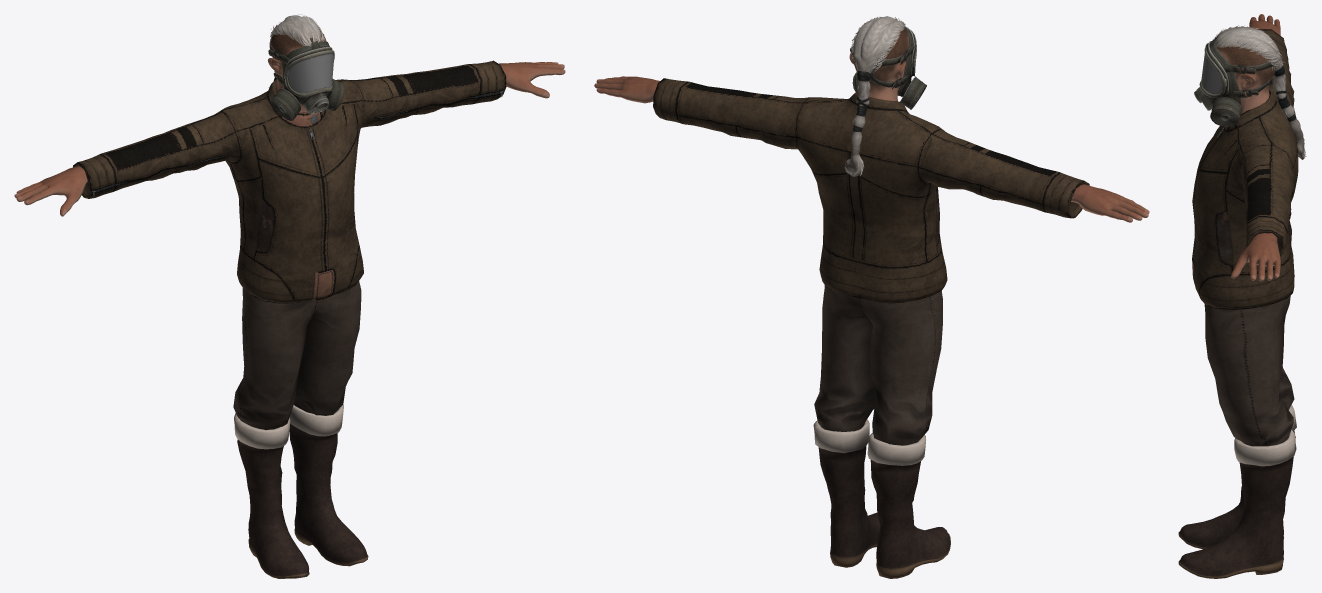
The model's file is Male1.obj.
The picture shows the model from 3 angles, left to right: view 1: azimuth 30°, elevation 25°; view 2: azimuth 150°, elevation 25°; view 3: azimuth 270°, elevation 25°; orthographic projection.
Parts seen in each view (by area): view 1: Tops, Bottoms, Shoes, Masks, Body, Hair; view 2: Tops, Bottoms, Shoes, Body, Hair, Masks; view 3: Tops, Bottoms, Shoes, Body, Masks, Hair.
Part boxes in pixels (<box>): Tops: <box>73,60,506,303</box>; Bottoms: <box>233,281,361,430</box>; Shoes: <box>234,404,368,578</box>; Masks: <box>268,34,344,120</box>; Body: <box>14,29,565,216</box>; Hair: <box>268,14,324,87</box>; Tops: <box>653,78,1089,303</box>; Bottoms: <box>814,285,942,445</box>; Shoes: <box>813,419,950,578</box>; Body: <box>594,28,1149,222</box>; Hair: <box>844,16,905,176</box>; Masks: <box>850,19,926,109</box>; Tops: <box>1192,29,1298,309</box>; Bottoms: <box>1204,295,1294,446</box>; Shoes: <box>1178,405,1296,578</box>; Body: <box>1217,14,1280,281</box>; Masks: <box>1194,36,1275,126</box>; Hair: <box>1213,25,1306,159</box>.
Size of the model in its own units: 194 by 182 by 40.09.
6 materials, 6 textured.
